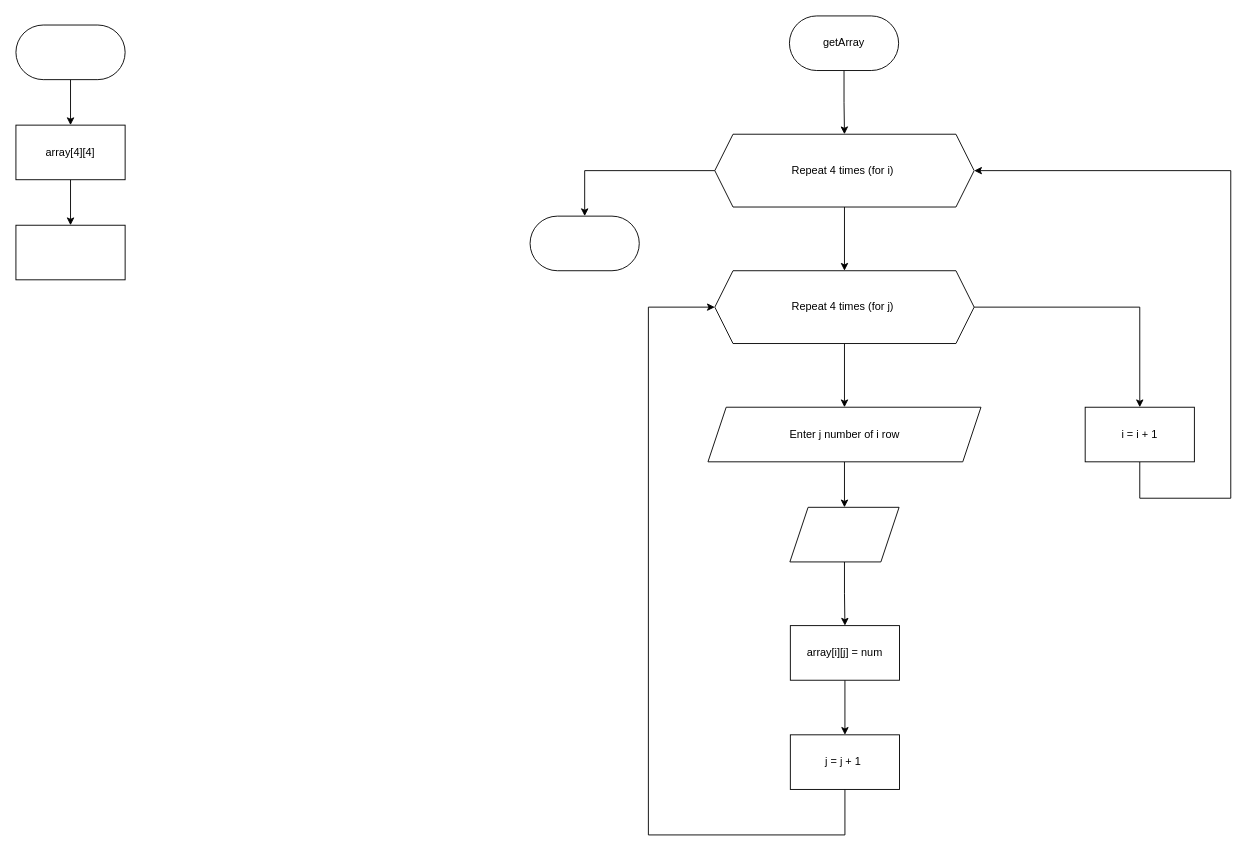
Some shapes in this 1254 by 858 pixel diagram are drawn without their labels. Each missing label, with the centre of its shape:
"END" belongs at pixel 584 243.
"getArray()" belongs at pixel 70 252.
"num" belongs at pixel 844 534.
"Start" belongs at pixel 70 52.
